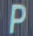Parking: (7, 2, 28, 35)
